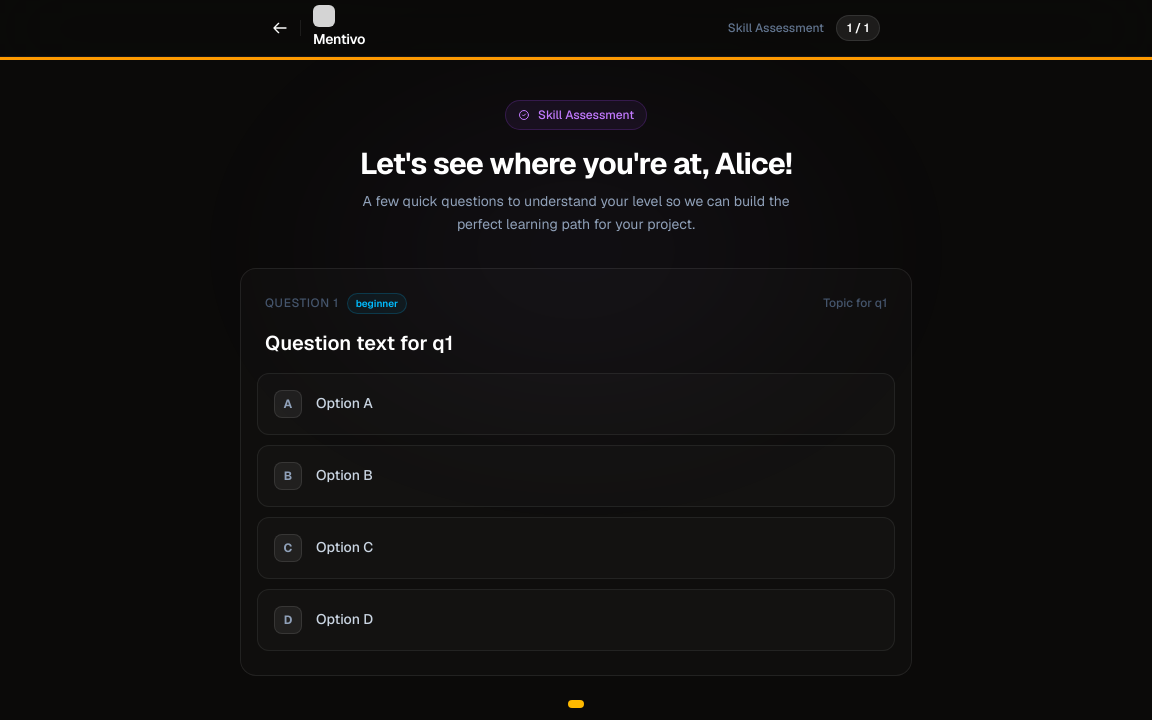
Test: QuizView › shows "Analyzing your results..." spinner while submitting
The width and height of the screenshot is (1152, 720).
Click the text "Option A": (344, 404) [316,394,373,414]
Wait 1100 ms
(page scrolled)
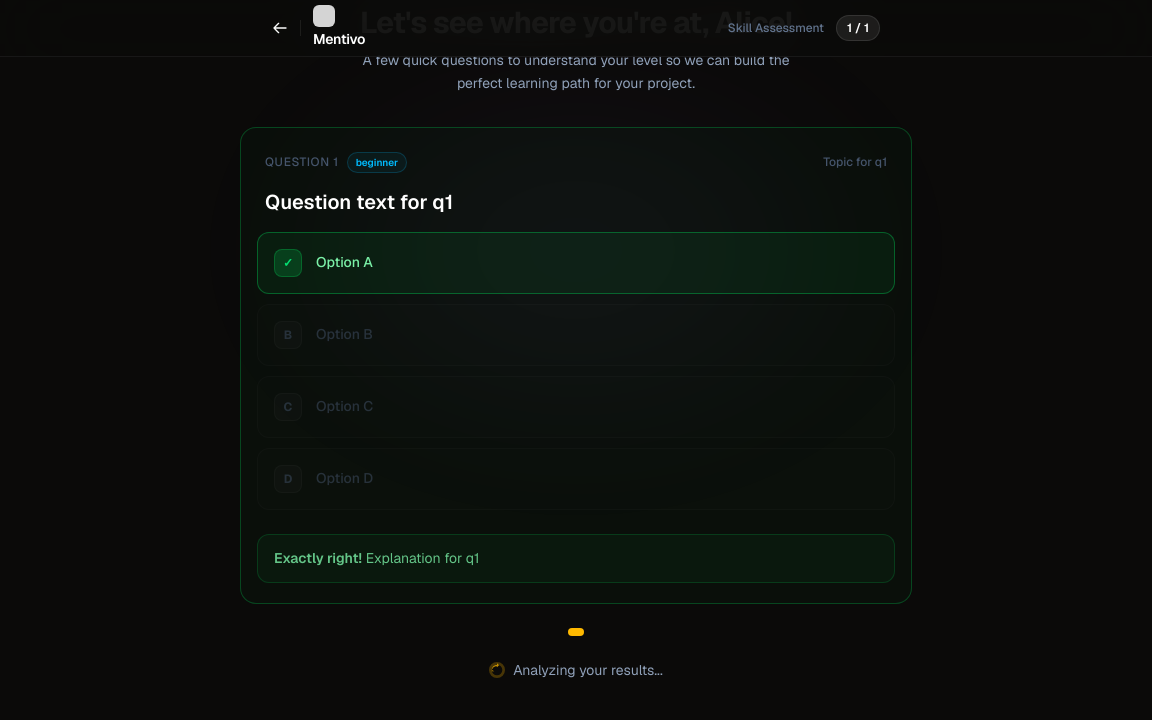
Check: the text "Analyzing your results..." is shown, box [489,661,663,679]
